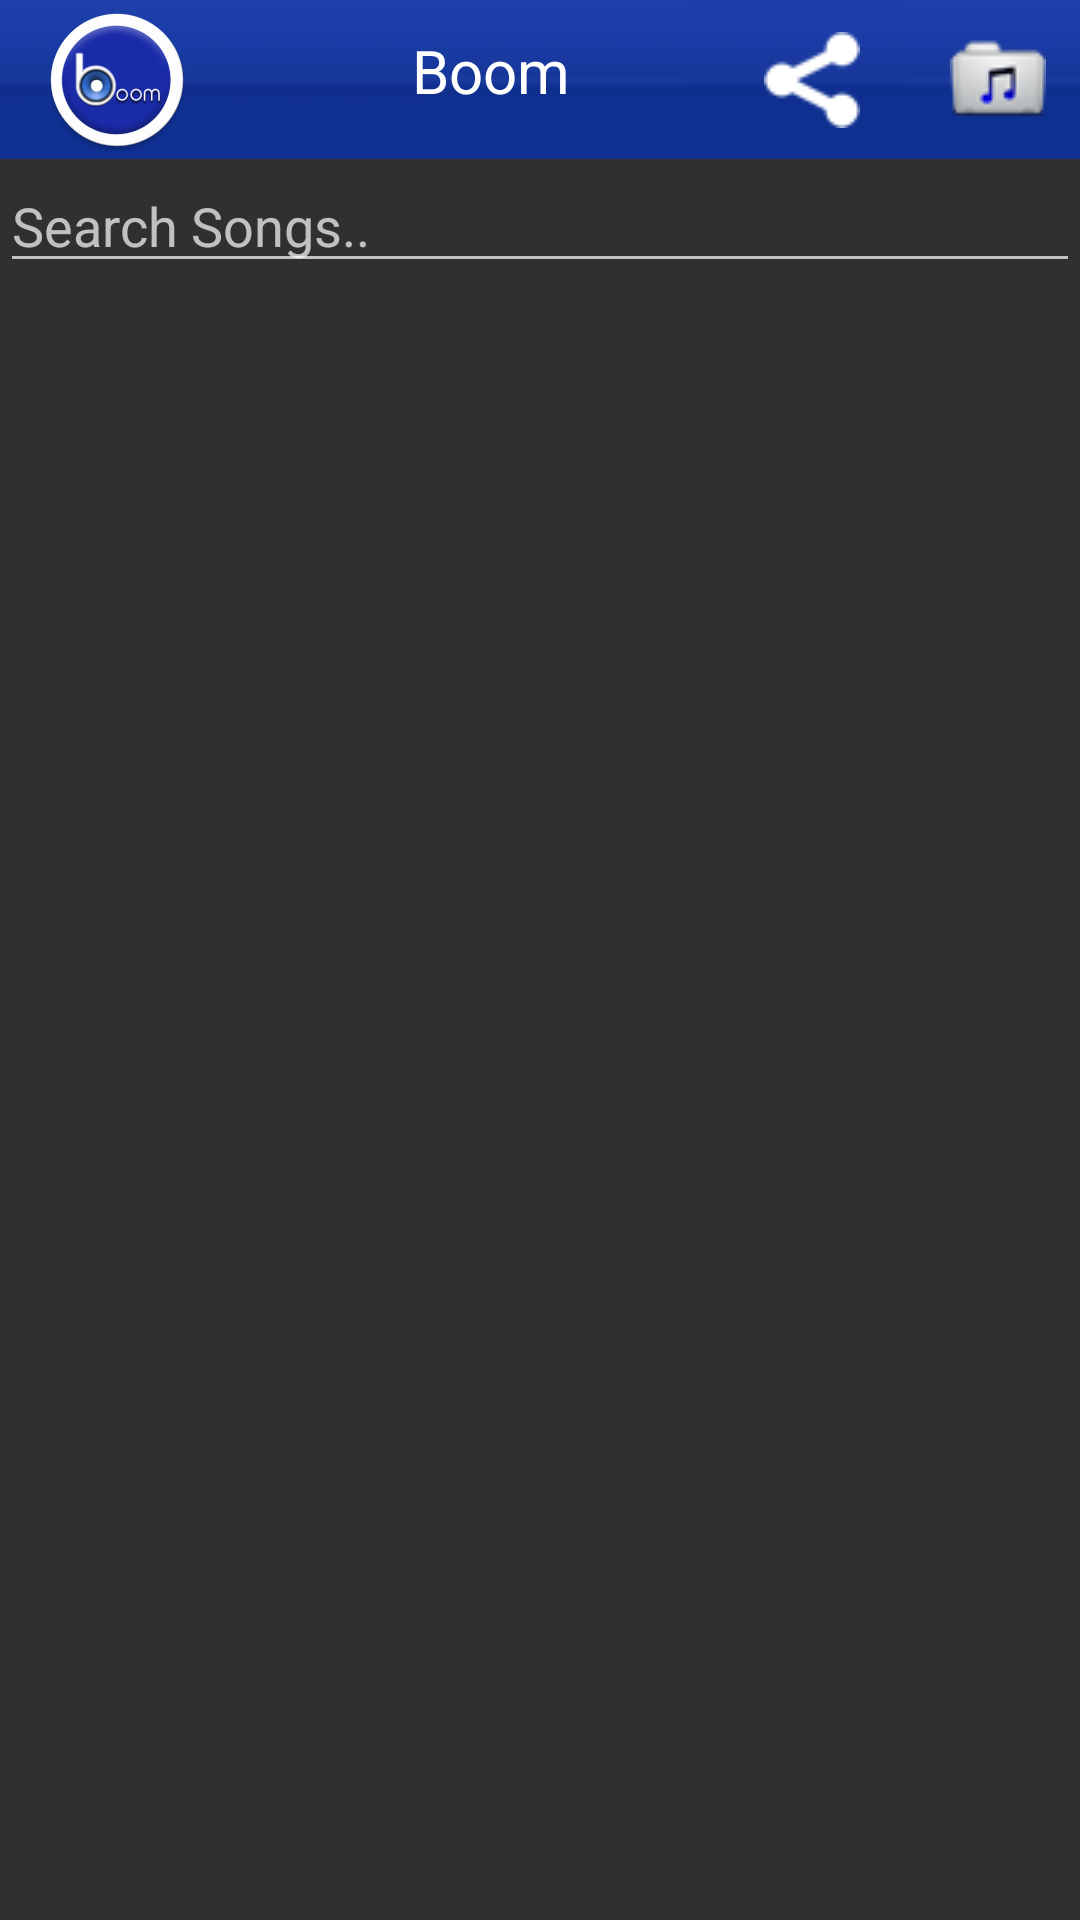

Icon click points for this 1080px x 1920px phone screenshot, format (x=x, y=y):
folder: (x=998, y=78)
share: (x=812, y=64)
